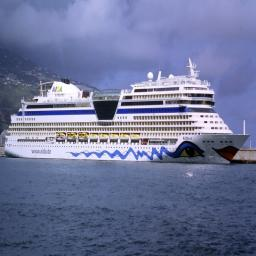cruises: (3, 68, 251, 169)
